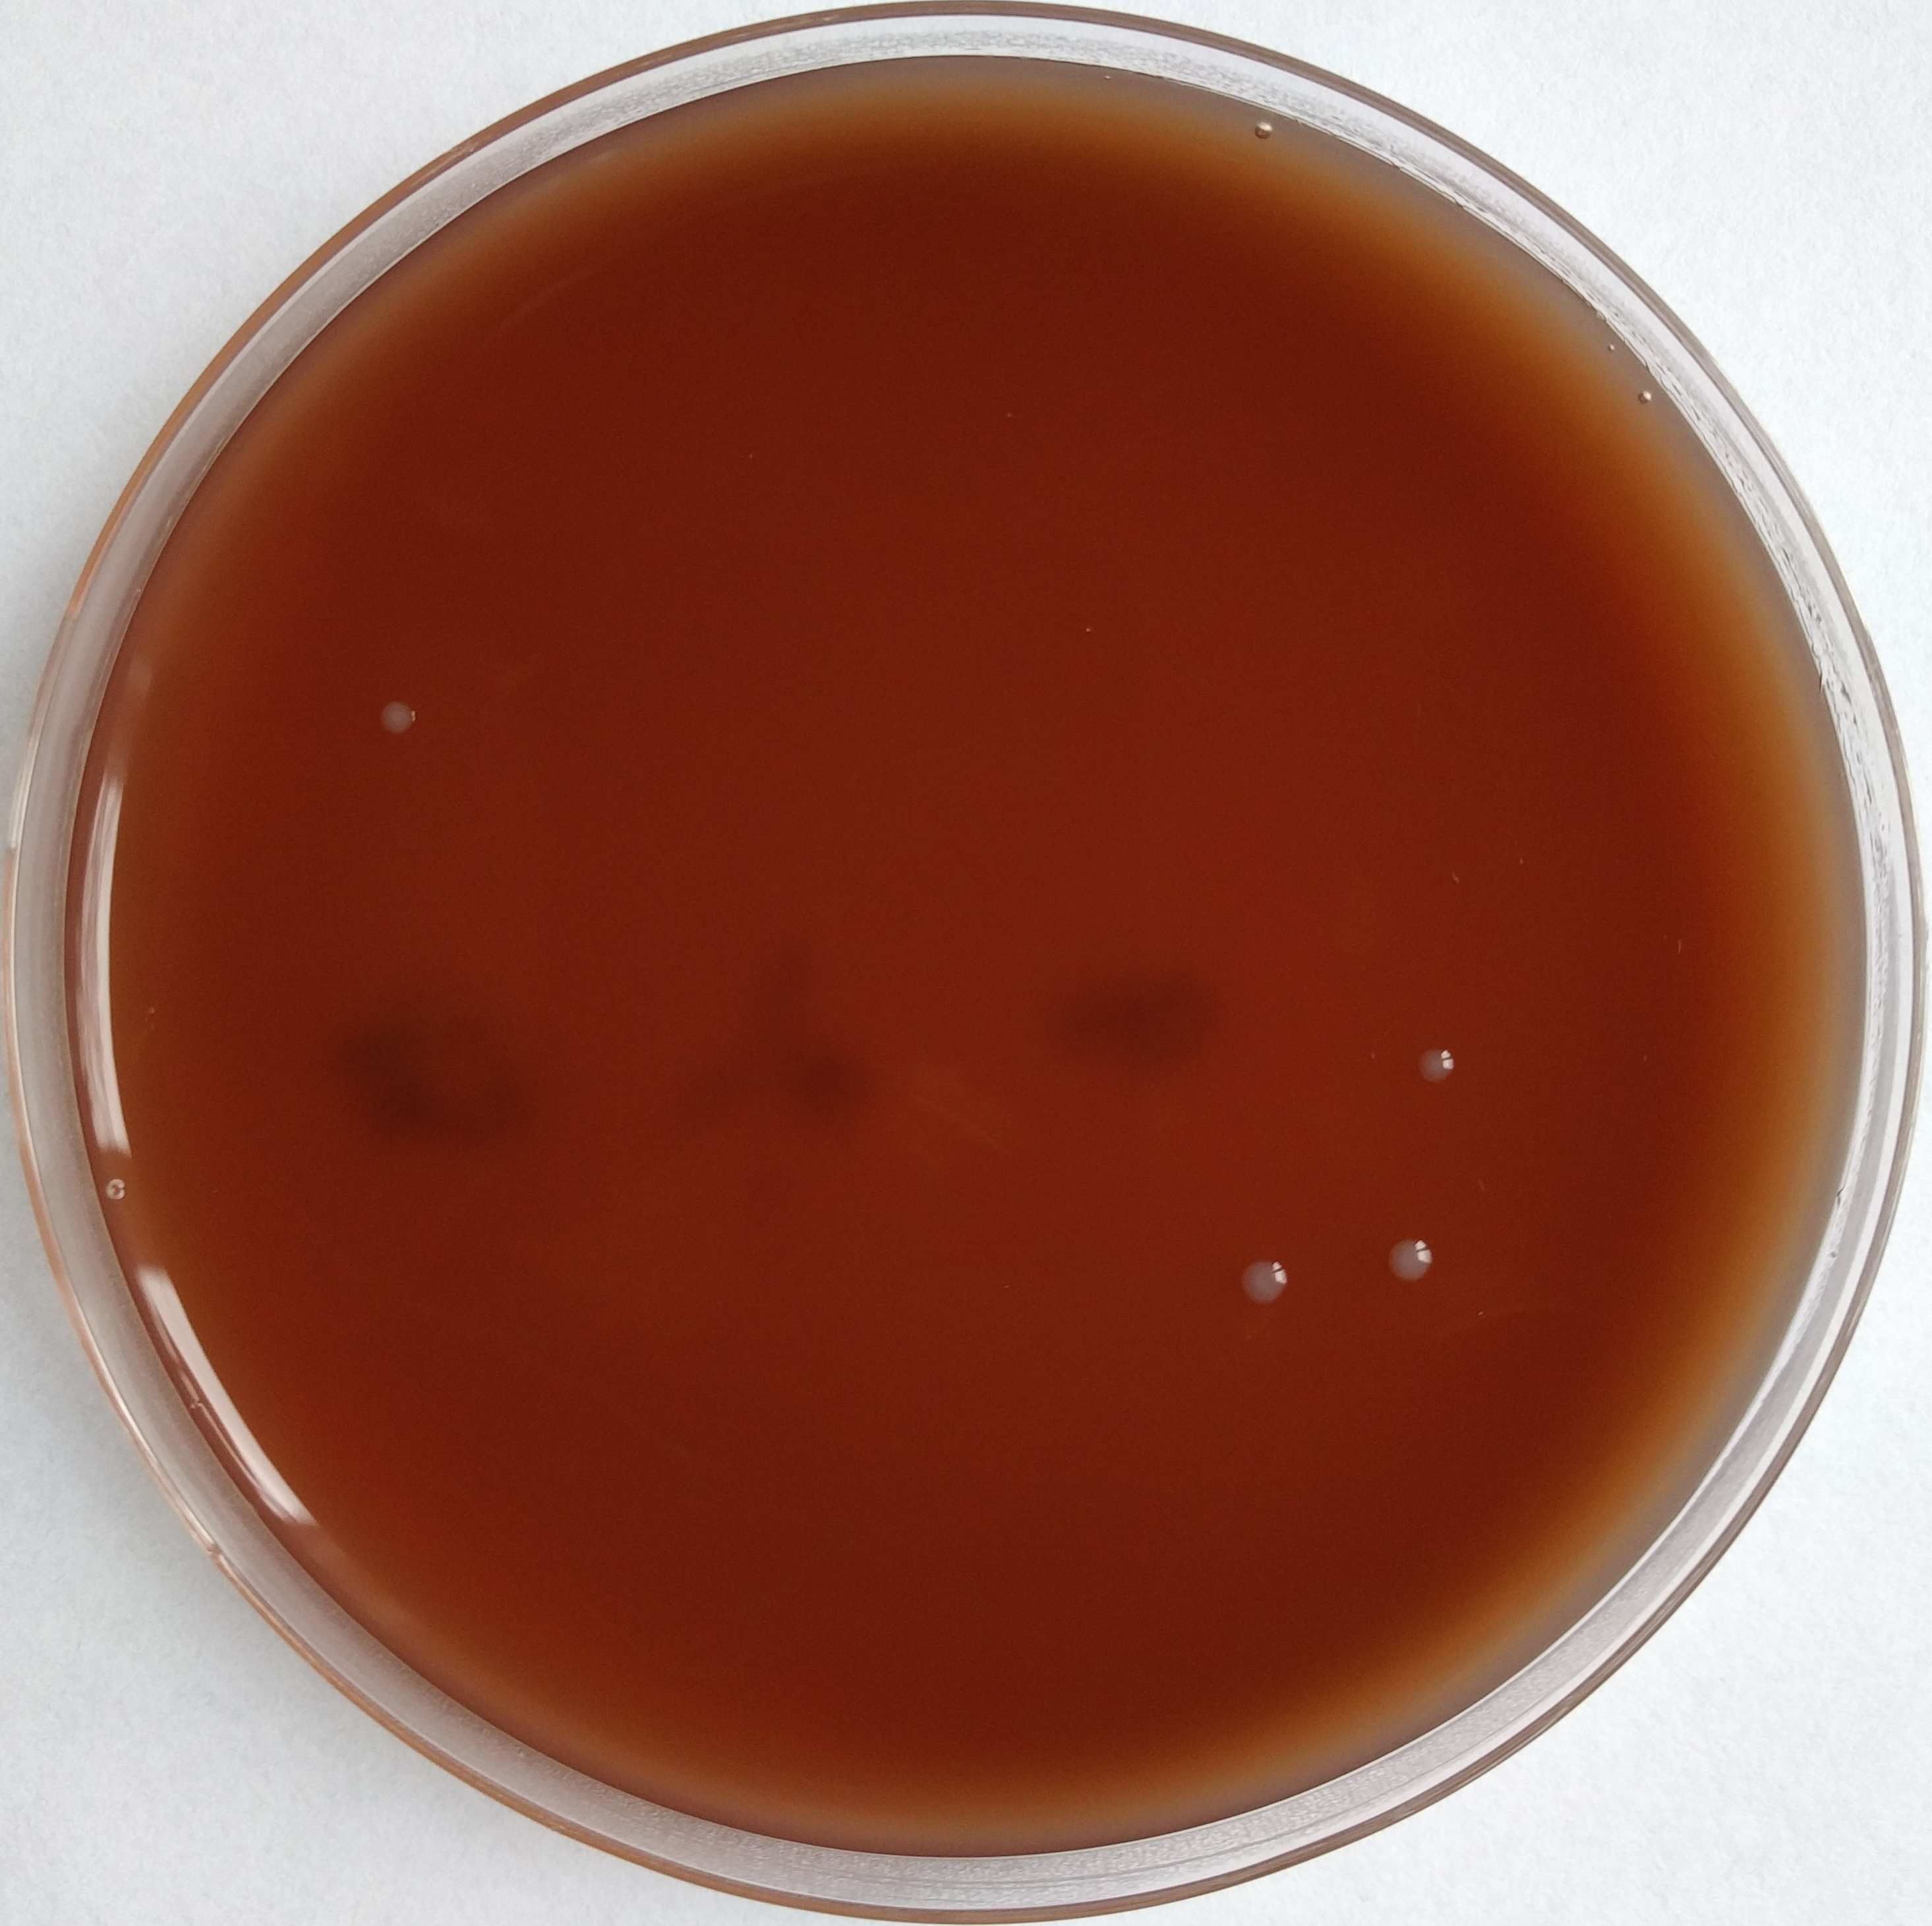sp16: (1389, 1023, 1491, 1109), (1216, 1242, 1309, 1316), (1371, 1222, 1452, 1295), (365, 660, 425, 751)
